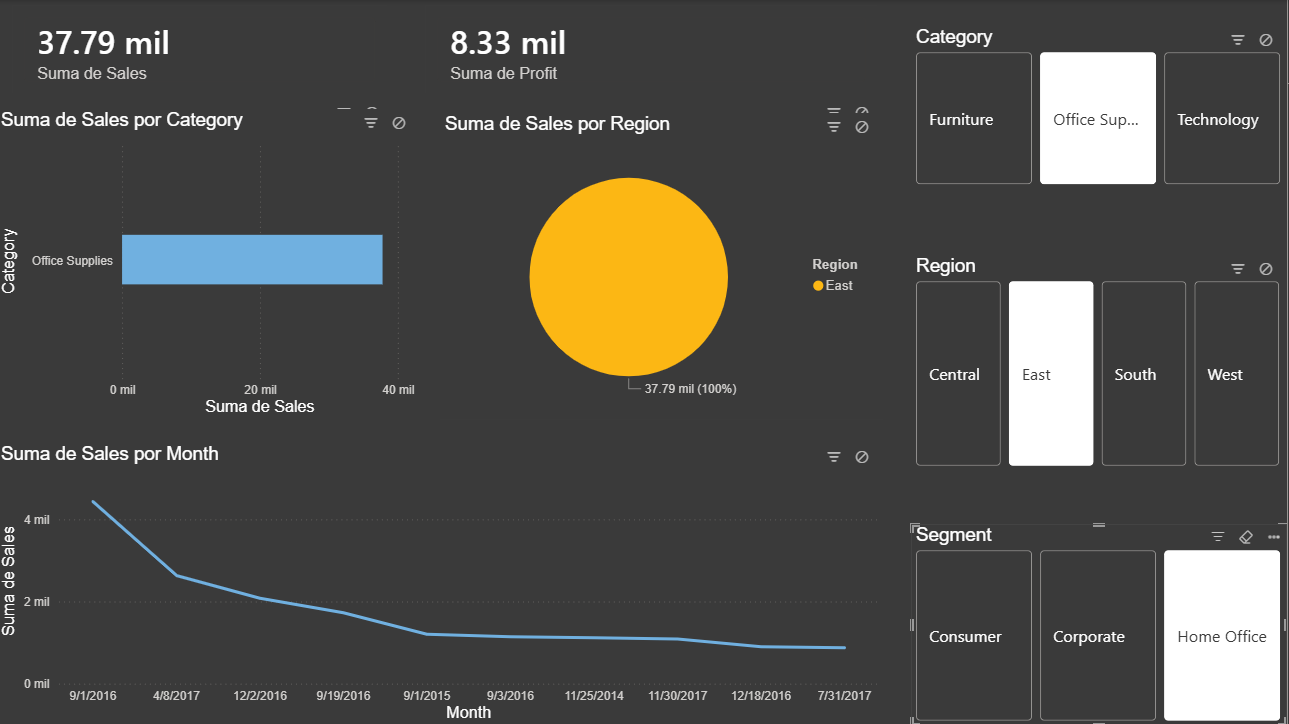

What the dashboard file says about the page in this screenshot:
{"tool":"powerbi","page":{"name":"Página 1","canvas":[1280,720],"ordinal":0},"visuals":[{"type":"cardVisual","fields":{"Data":["Sum(Sample - Superstore.Sales)"]},"box":[10.9,0,382.7,98.2],"z":0},{"type":"cardVisual","fields":{"Data":["Sum(Sample - Superstore.Profit)"]},"box":[420.4,0,459.1,98.2],"z":1000},{"type":"clusteredBarChart","fields":{"Category":["Sample - Superstore.Category"],"Y":["Sum(Sample - Superstore.Sales)"]},"box":[0,108.1,420.4,308.4],"z":2000},{"type":"pieChart","fields":{"Category":["Sample - Superstore.Region"],"Y":["Sum(Sample - Superstore.Sales)"]},"box":[440.2,112,439.2,304.4],"z":3000},{"type":"lineChart","fields":{"Category":["Sample - Superstore.Month"],"Y":["Sum(Sample - Superstore.Sales)"]},"box":[0,439.2,879.4,280.6],"z":4000},{"type":"advancedSlicerVisual","fields":{"Values":["Sample - Superstore.Region"]},"box":[907.2,252.8,372.8,214.2],"z":4001},{"type":"advancedSlicerVisual","fields":{"Values":["Sample - Superstore.Category"]},"box":[907,26.1,373,162.9],"z":4002},{"type":"advancedSlicerVisual","fields":{"Values":["Sample - Superstore.Segment"]},"box":[907,519.8,373,200.1],"z":4003}]}

Visuals, with their boxes in screenshot pixels (x1, y1, x2, y2), scaled from the page's 1280x720 canvas onto the 1289x724 screenshot:
cardVisual - Sum(Sample - Superstore.Sales): box(11, 0, 396, 99)
cardVisual - Sum(Sample - Superstore.Profit): box(423, 0, 886, 99)
clusteredBarChart - Sample - Superstore.Category x Sum(Sample - Superstore.Sales): box(0, 109, 423, 419)
pieChart - Sample - Superstore.Region x Sum(Sample - Superstore.Sales): box(443, 113, 886, 419)
lineChart - Sample - Superstore.Month x Sum(Sample - Superstore.Sales): box(0, 442, 886, 723)
advancedSlicerVisual - Sample - Superstore.Region: box(914, 254, 1288, 470)
advancedSlicerVisual - Sample - Superstore.Category: box(913, 26, 1288, 190)
advancedSlicerVisual - Sample - Superstore.Segment: box(913, 523, 1288, 723)
